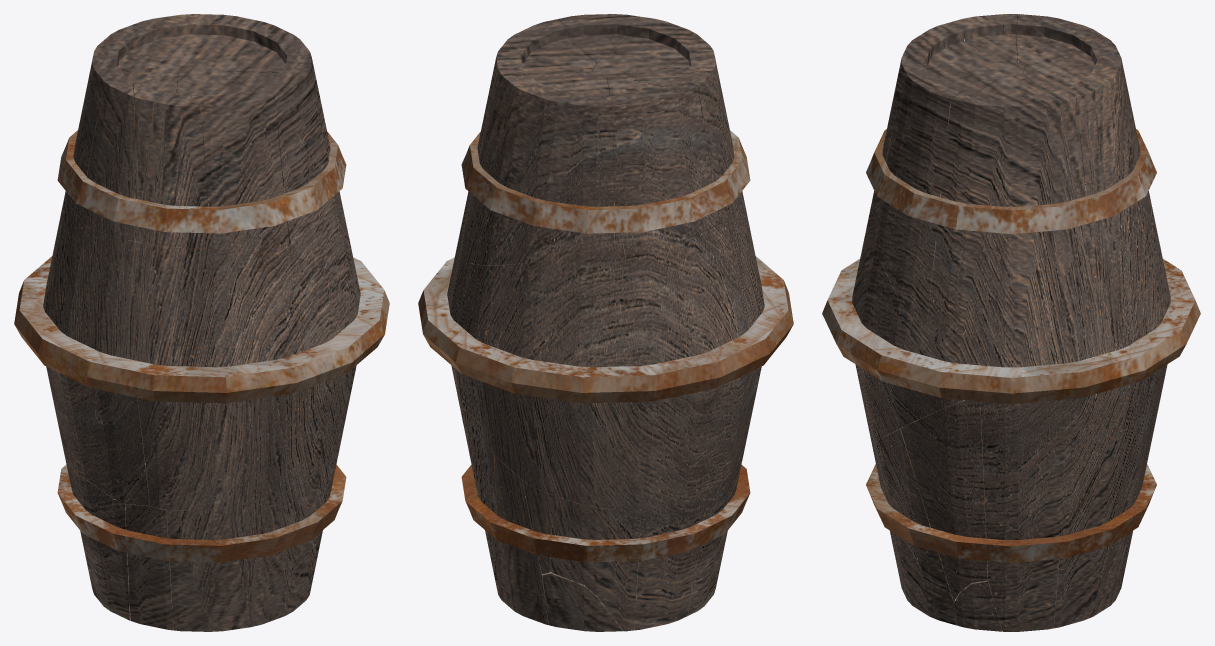
Rendered from Fractured Barrel low poly.glb.
3 views of the same model, side by side, from view 1: azimuth 30°, elevation 25°; view 2: azimuth 150°, elevation 25°; view 3: azimuth 270°, elevation 25° (orthographic).
Visible parts, largest first — view 1: Barrel Metal part, Barrel_cell.030, Barrel_cell.020, Barrel_cell.010, Barrel_cell.023, Barrel_cell.008, Barrel_cell.028, Barrel_cell.019, Barrel_cell.015, Barrel_cell.017, Barrel_cell.006, Barrel_cell.014 (+8 smaller); view 2: Barrel Metal part, Barrel_cell.014, Barrel_cell.025, Barrel_cell.003, Barrel_cell.016, Barrel_cell, Barrel_cell.029, Barrel_cell.018, Barrel_cell.005, Barrel_cell.027, Barrel_cell.012, Barrel_cell.011 (+11 smaller); view 3: Barrel_cell.011, Barrel Metal part, Barrel_cell.024, Barrel_cell.014, Barrel_cell.008, Barrel_cell.001, Barrel_cell.026, Barrel_cell.025, Barrel_cell.017, Barrel_cell.030, Barrel_cell.010, Barrel_cell.020 (+7 smaller).
Boxes of the visible parts, bbox=[...] form: Barrel Metal part: bbox=[14, 102, 389, 562]; Barrel_cell.030: bbox=[137, 244, 360, 367]; Barrel_cell.020: bbox=[137, 365, 356, 510]; Barrel_cell.010: bbox=[177, 64, 290, 254]; Barrel_cell.023: bbox=[166, 495, 277, 631]; Barrel_cell.008: bbox=[223, 62, 354, 281]; Barrel_cell.028: bbox=[67, 227, 143, 360]; Barrel_cell.019: bbox=[142, 92, 211, 248]; Barrel_cell.015: bbox=[66, 376, 149, 505]; Barrel_cell.017: bbox=[262, 406, 345, 624]; Barrel_cell.006: bbox=[79, 76, 134, 241]; Barrel_cell.014: bbox=[90, 14, 250, 174]; Barrel Metal part: bbox=[418, 106, 793, 562]; Barrel_cell.014: bbox=[459, 64, 614, 265]; Barrel_cell.025: bbox=[447, 244, 643, 367]; Barrel_cell.003: bbox=[451, 365, 657, 511]; Barrel_cell.016: bbox=[607, 77, 719, 244]; Barrel_cell: bbox=[522, 480, 641, 631]; Barrel_cell.029: bbox=[674, 222, 746, 358]; Barrel_cell.018: bbox=[668, 373, 747, 502]; Barrel_cell.005: bbox=[634, 490, 707, 630]; Barrel_cell.027: bbox=[623, 243, 681, 365]; Barrel_cell.012: bbox=[494, 455, 548, 624]; Barrel_cell.011: bbox=[452, 19, 596, 268]; Barrel_cell.011: bbox=[926, 75, 1097, 367]; Barrel Metal part: bbox=[822, 103, 1200, 562]; Barrel_cell.024: bbox=[980, 400, 1072, 631]; Barrel_cell.014: bbox=[1022, 35, 1152, 301]; Barrel_cell.008: bbox=[874, 69, 999, 330]; Barrel_cell.001: bbox=[1053, 409, 1146, 628]; Barrel_cell.026: bbox=[901, 400, 987, 601]; Barrel_cell.025: bbox=[1045, 207, 1170, 365]; Barrel_cell.017: bbox=[873, 429, 956, 625]; Barrel_cell.030: bbox=[852, 198, 955, 363]; Barrel_cell.010: bbox=[871, 37, 1024, 218]; Barrel_cell.020: bbox=[855, 284, 964, 449].
Bounding box in the file's own units: 1.97 × 3.01 × 1.97.
2 materials, 2 textured.
